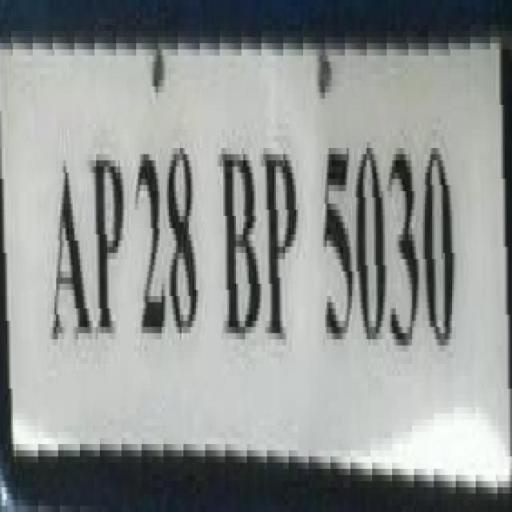number plate: (17, 5, 512, 462)
